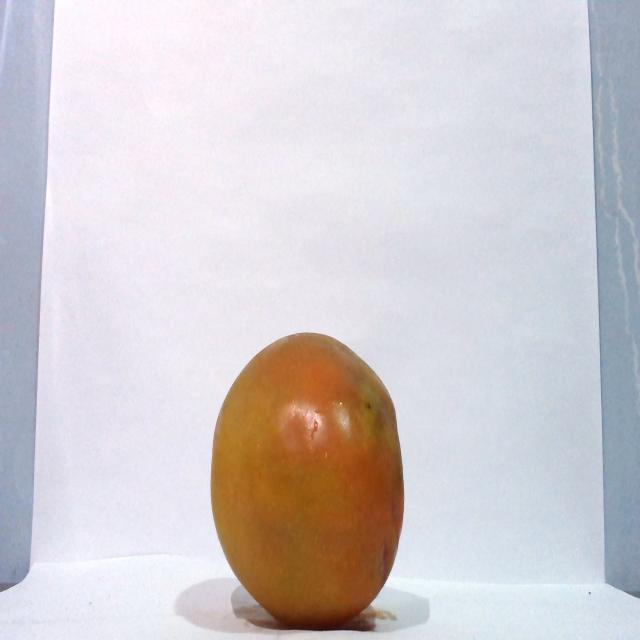Red: (208, 330, 405, 628)
